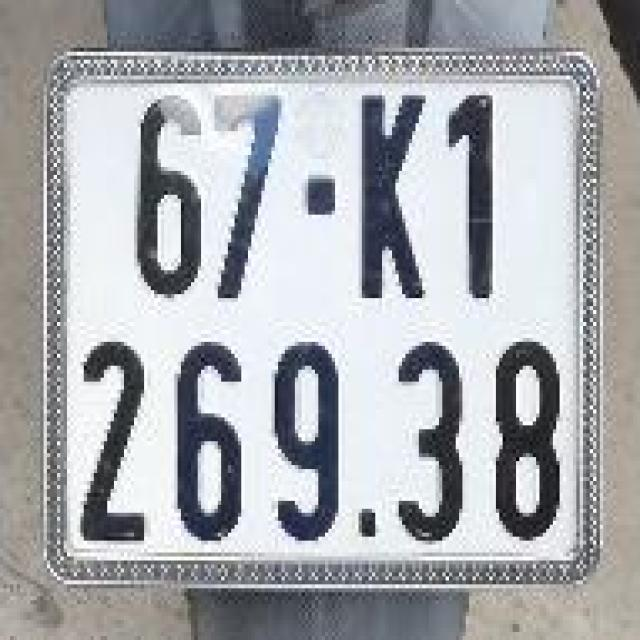1: (441, 78, 514, 312)
2: (70, 326, 154, 556)
3: (382, 326, 472, 549)
6: (124, 78, 211, 300), (168, 334, 252, 548)
7: (201, 80, 292, 306)
8: (482, 324, 580, 555)
9: (258, 336, 355, 546)
K: (348, 80, 436, 306)
